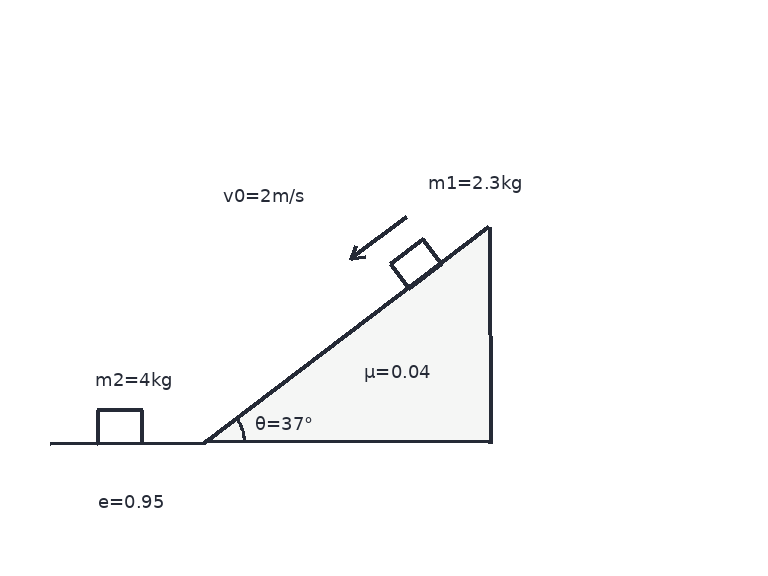block: (388, 237, 443, 290), (96, 408, 144, 444)
ramp: (202, 225, 491, 444)
